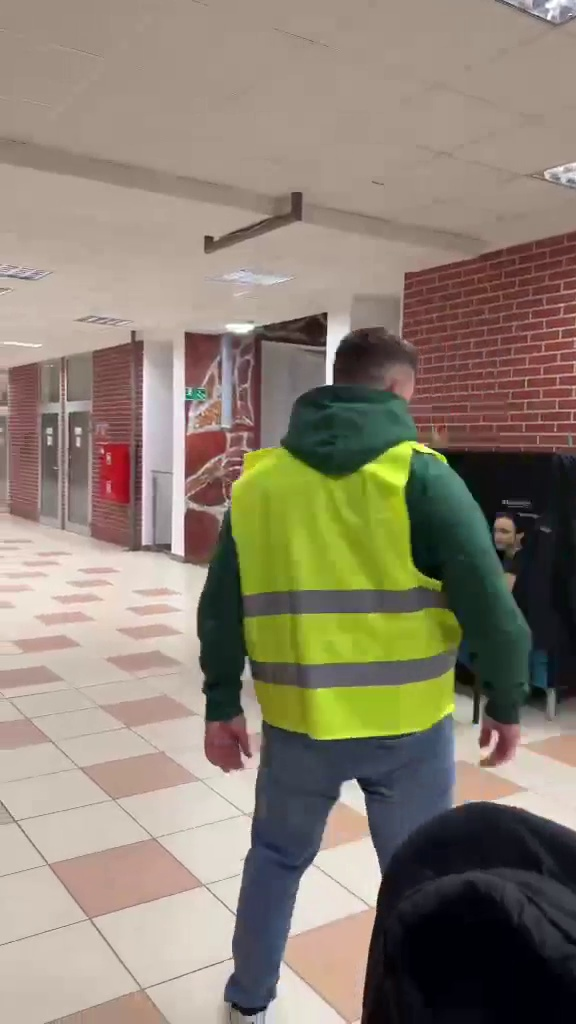vest: (180, 319, 541, 996)
